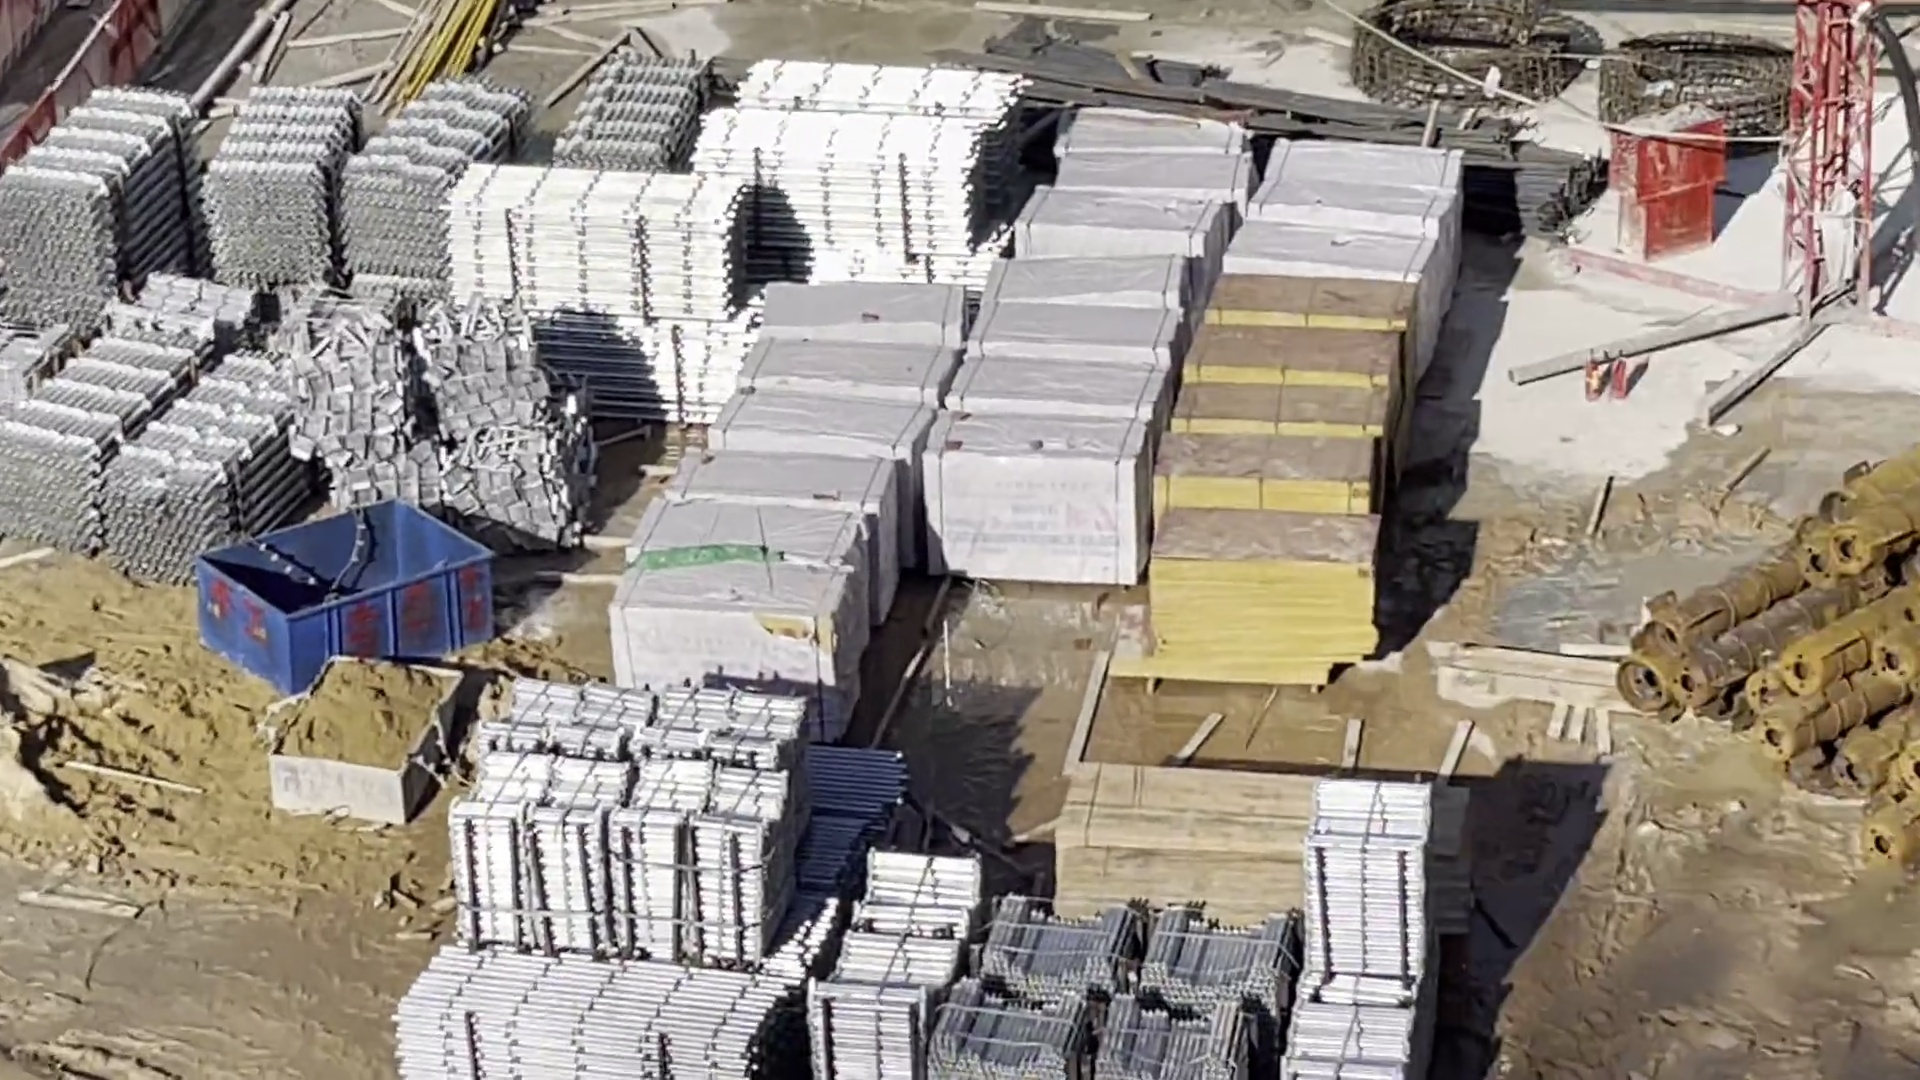board: (1145, 272, 1381, 665), (1063, 757, 1313, 911)
hopper: (193, 497, 493, 694), (269, 655, 463, 820)
rebar: (1083, 79, 1602, 241)
scaffold: (465, 680, 806, 960), (448, 171, 741, 418), (16, 338, 320, 572), (702, 61, 1006, 284), (935, 895, 1267, 1080), (208, 84, 524, 276), (394, 957, 791, 1080), (1284, 777, 1433, 1080), (5, 87, 204, 299), (816, 851, 973, 1080), (559, 69, 698, 174)
